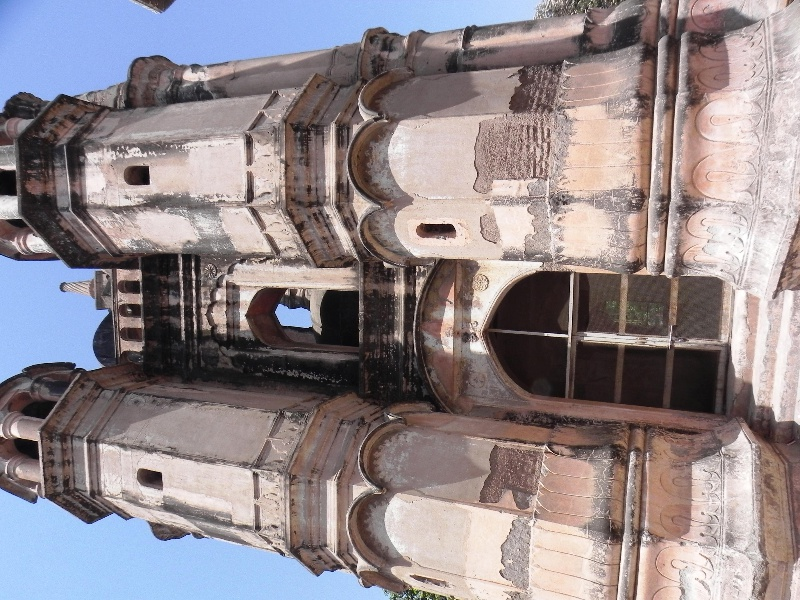Exposed Bricks: (520, 67, 556, 183)
Spalling: (469, 437, 543, 600), (468, 110, 508, 246)
